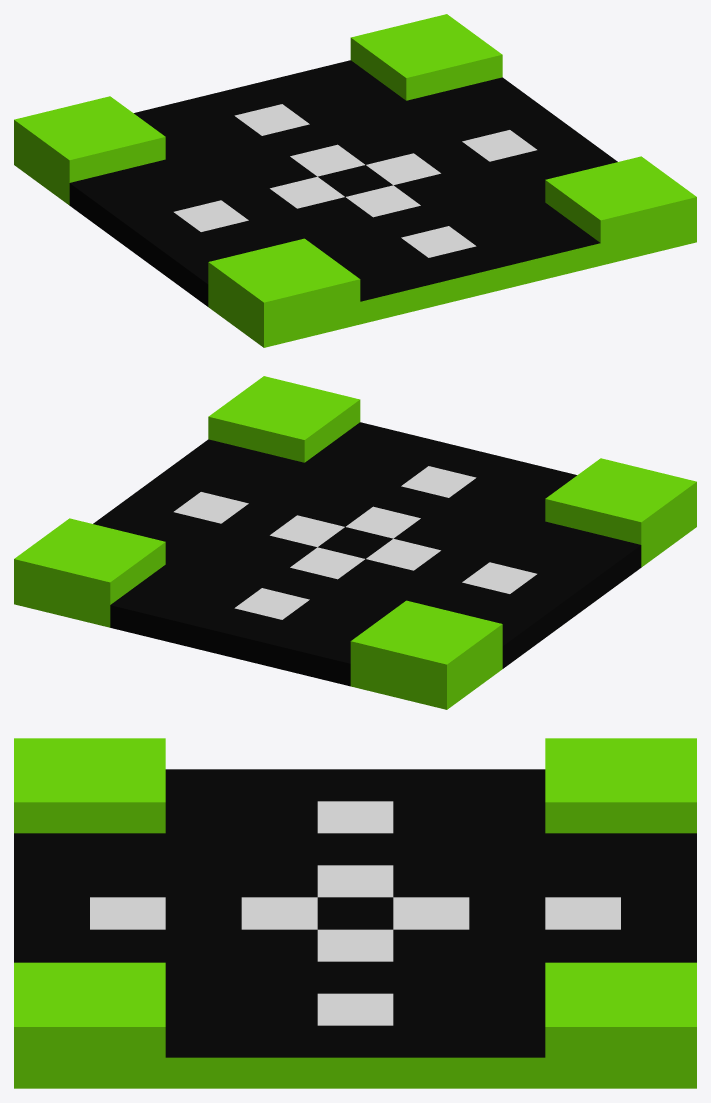
The model's file is RoadCrossway.fbx.
3 views of the same model, one above another, from view 1: azimuth 30°, elevation 25°; view 2: azimuth 150°, elevation 25°; view 3: azimuth 270°, elevation 25° (orthographic). The views are drawn at different scales.
Visible parts, largest first — view 1: Crossway; view 2: Crossway; view 3: Crossway.
Part boxes in pixels (x1,y1,x2,y2): Crossway: (14, 14, 696, 347); Crossway: (14, 376, 696, 709); Crossway: (14, 738, 696, 1088).
Size of the model in its own units: 10 by 1 by 10.
